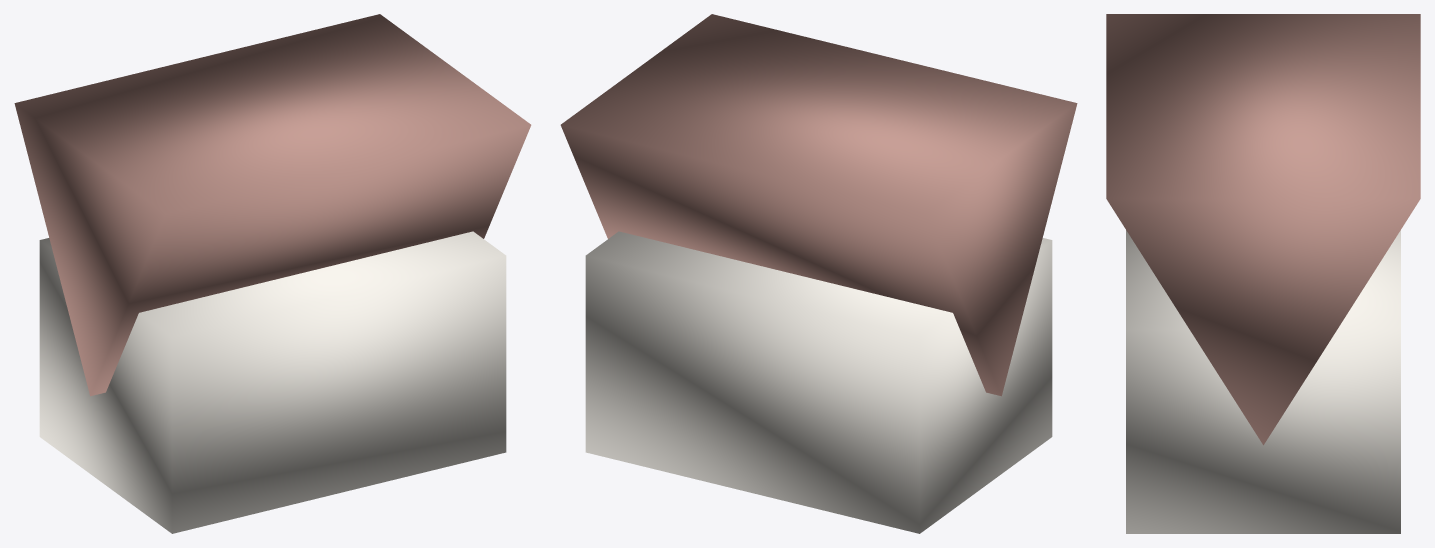
Rendered from cottage.glb.
3 views of the same model, side by side, from view 1: azimuth 30°, elevation 25°; view 2: azimuth 150°, elevation 25°; view 3: azimuth 270°, elevation 25° (orthographic). The views are drawn at different scales.
Parts seen in each view (by area): view 1: roof, walls; view 2: roof, walls; view 3: roof, walls.
Part boxes in pixels (x1=…): roof: x1=14, y1=14, x2=531, y2=396; walls: x1=39, y1=231, x2=506, y2=533; roof: x1=560, y1=14, x2=1077, y2=396; walls: x1=585, y1=231, x2=1052, y2=533; roof: x1=1106, y1=14, x2=1420, y2=445; walls: x1=1126, y1=230, x2=1400, y2=533.
Size of the model in its own units: 3.5 by 3.03 by 2.51.
